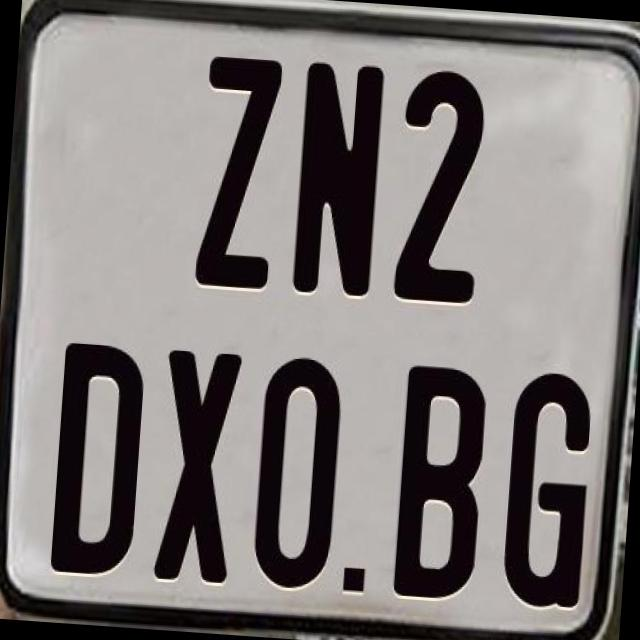0: (247, 352, 347, 595)
2: (392, 68, 488, 310)
B: (388, 364, 486, 600)
D: (46, 340, 149, 576)
G: (499, 366, 594, 604)
N: (291, 61, 392, 303)
X: (152, 346, 243, 580)
Z: (194, 55, 288, 292)
